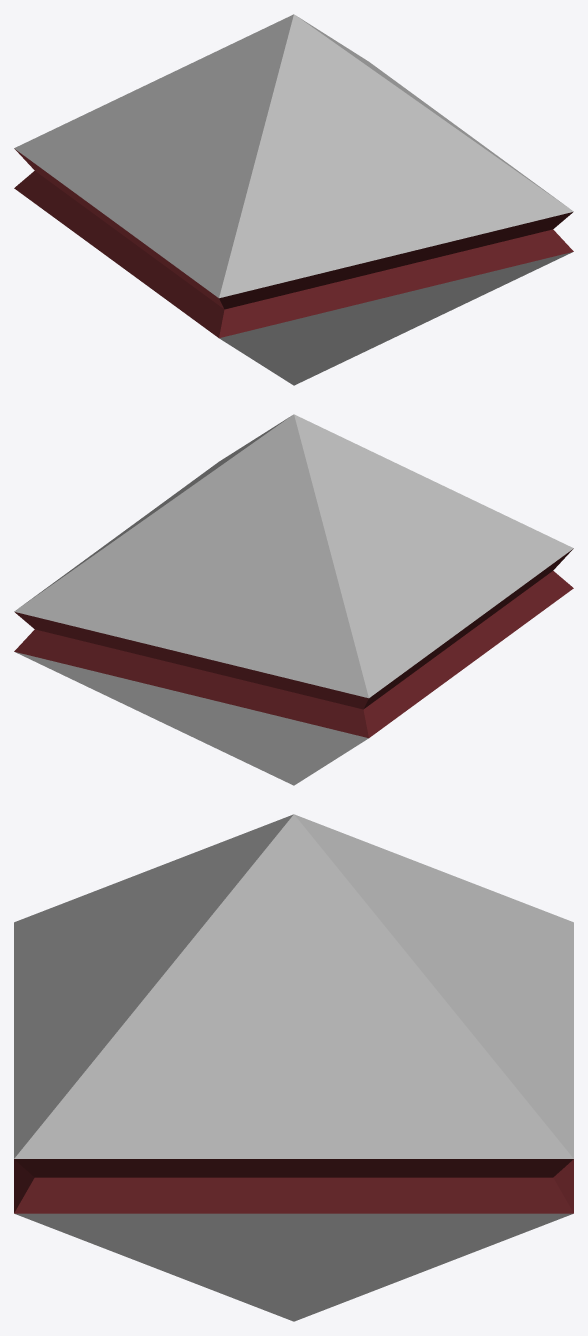
Rendered from NormalEnemy.obj.
3 renders of one model, top to bottom at view 1: azimuth 30°, elevation 25°; view 2: azimuth 150°, elevation 25°; view 3: azimuth 270°, elevation 25°, orthographic. The views are drawn at different scales.
Parts seen in each view (by area): view 1: Cube; view 2: Cube; view 3: Cube.
Part boxes in pixels (x1,y1,x2,y2): Cube: (14, 14, 573, 385); Cube: (14, 414, 573, 785); Cube: (14, 814, 573, 1321).
Size of the model in its own units: 1 by 1 by 1.
1 material, 1 textured.
